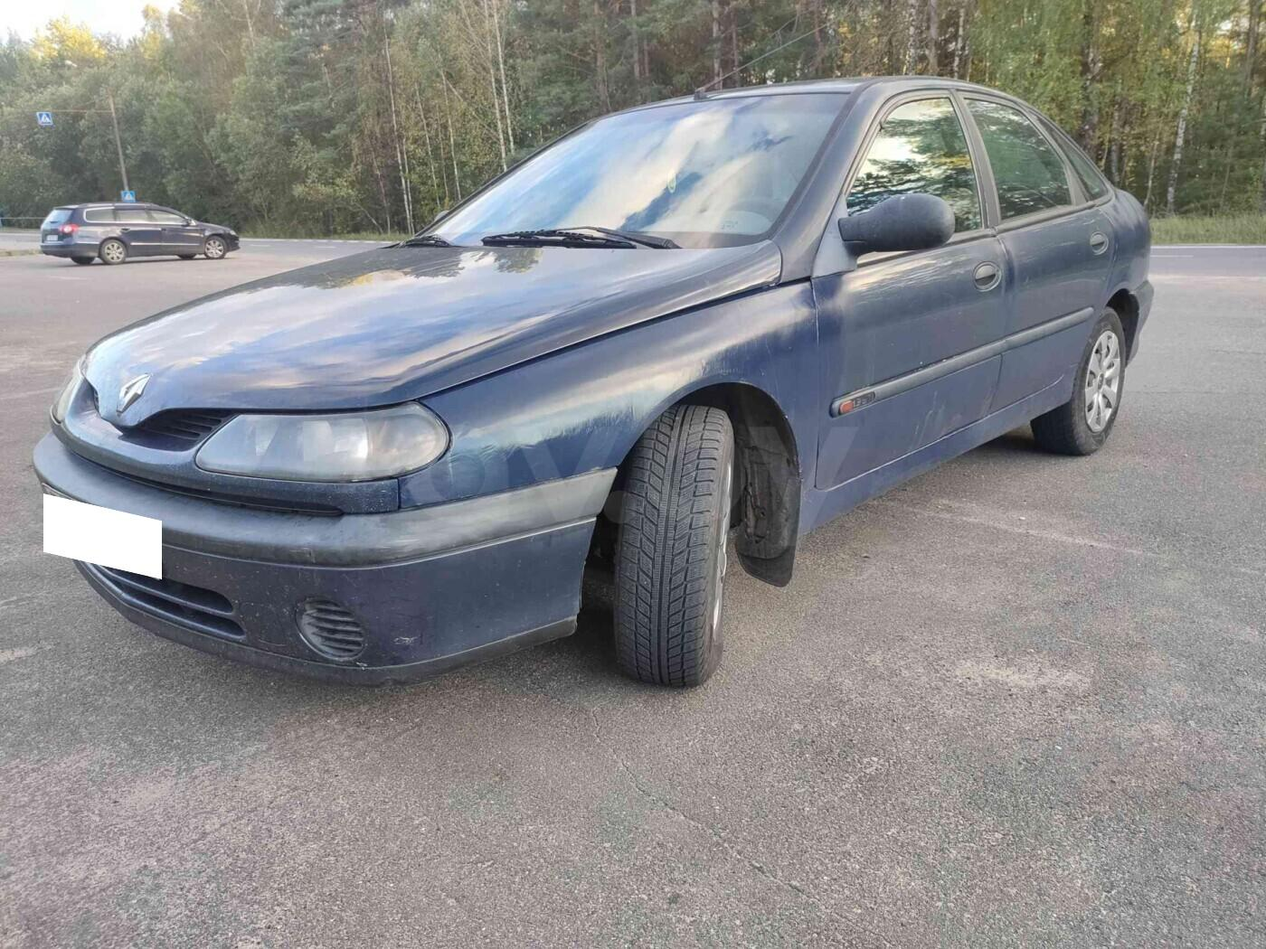Laguna_1998-2001: (32, 59, 1173, 702)
